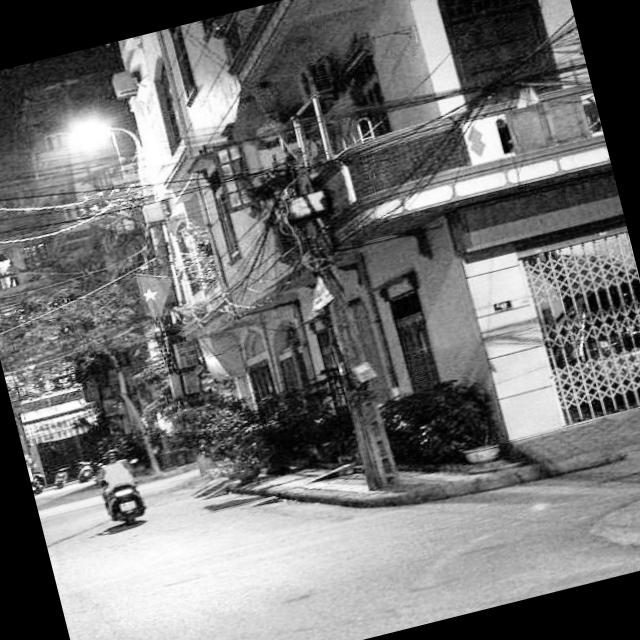Motorcycle: (64, 472, 194, 550)
